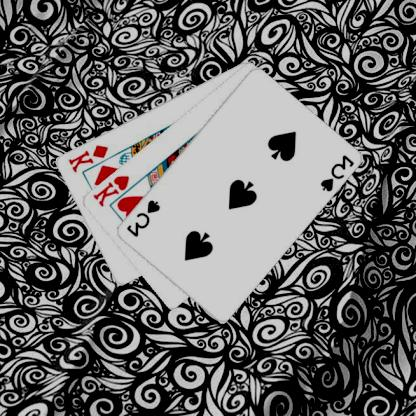3S: (126, 196, 164, 238), (319, 152, 357, 193)
KD: (67, 141, 111, 174)
KH: (92, 172, 132, 208)
